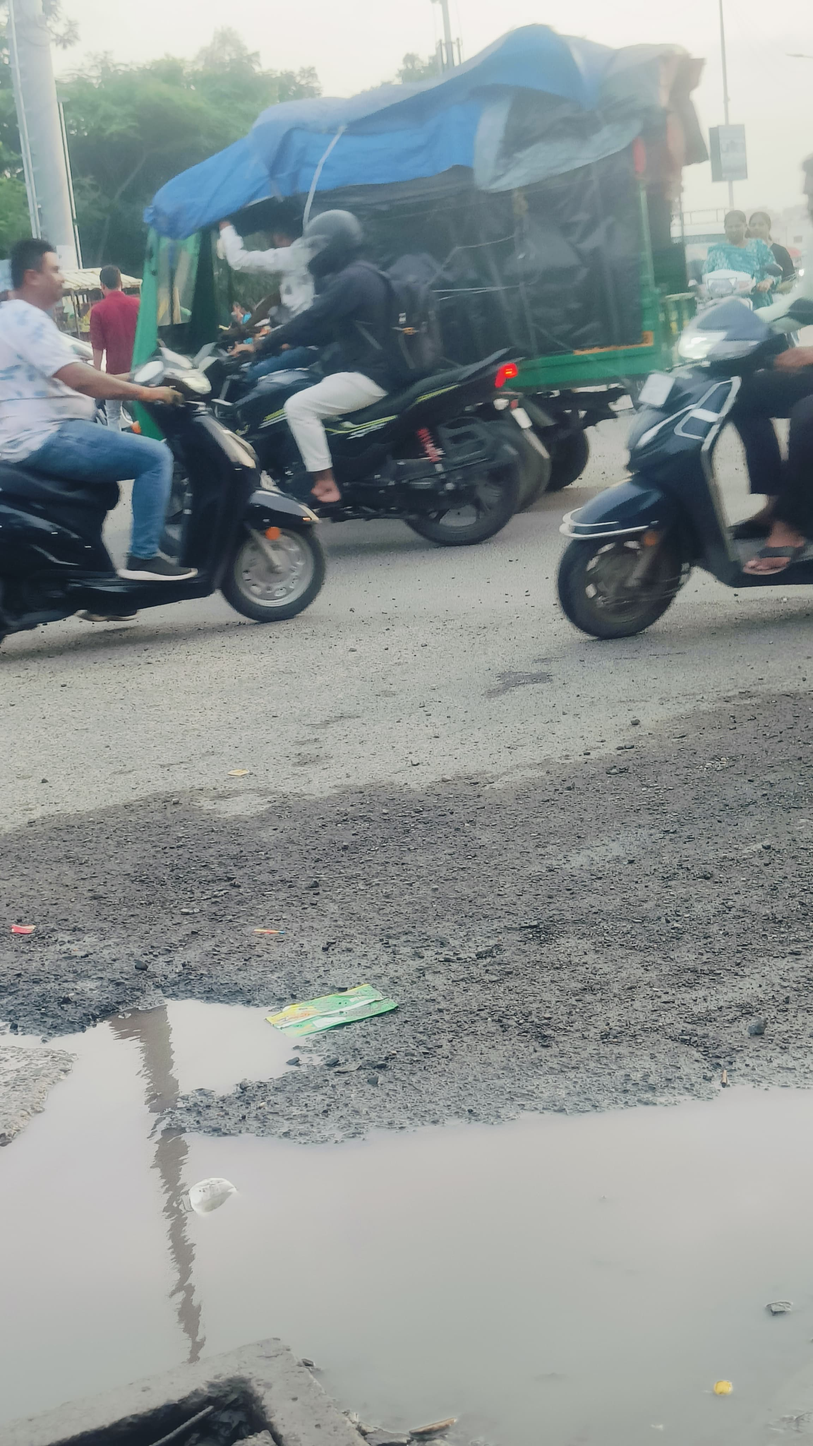BikeWithRider: (161, 191, 546, 558), (0, 235, 342, 640)
Helmet: (295, 201, 380, 288)
NoHelmet: (0, 220, 92, 329)
